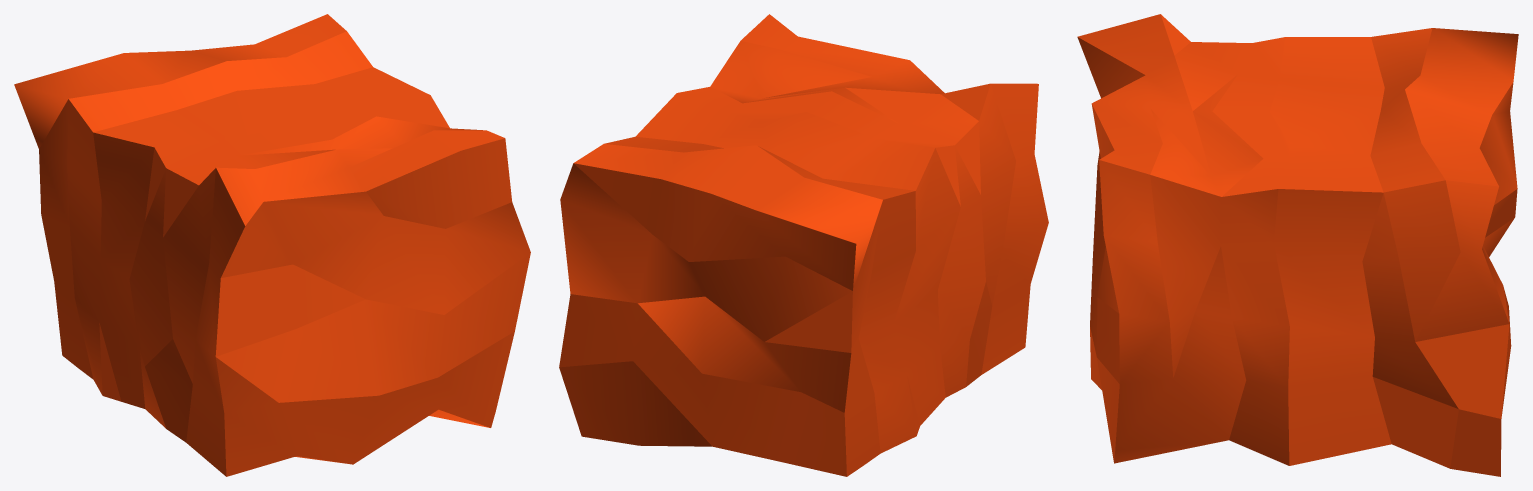
File: Hay_2.fbx
The picture shows the model from 3 angles, left to right: view 1: azimuth 30°, elevation 25°; view 2: azimuth 150°, elevation 25°; view 3: azimuth 270°, elevation 25°; orthographic projection. The views are drawn at different scales.
Visible parts, largest first — view 1: Hay_2; view 2: Hay_2; view 3: Hay_2.
Part boxes in pixels (box(x1,y1,x2,y2)): Hay_2: box(14, 14, 530, 476); Hay_2: box(559, 14, 1048, 476); Hay_2: box(1077, 14, 1518, 476).
Bounding box in the file's own units: 22.46 × 20.86 × 25.15.
